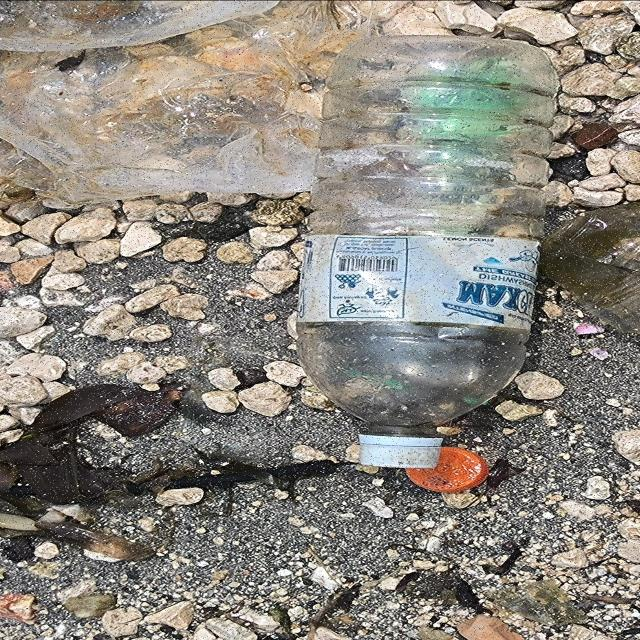plastic_waste: (296, 34, 564, 470), (406, 447, 491, 495)
